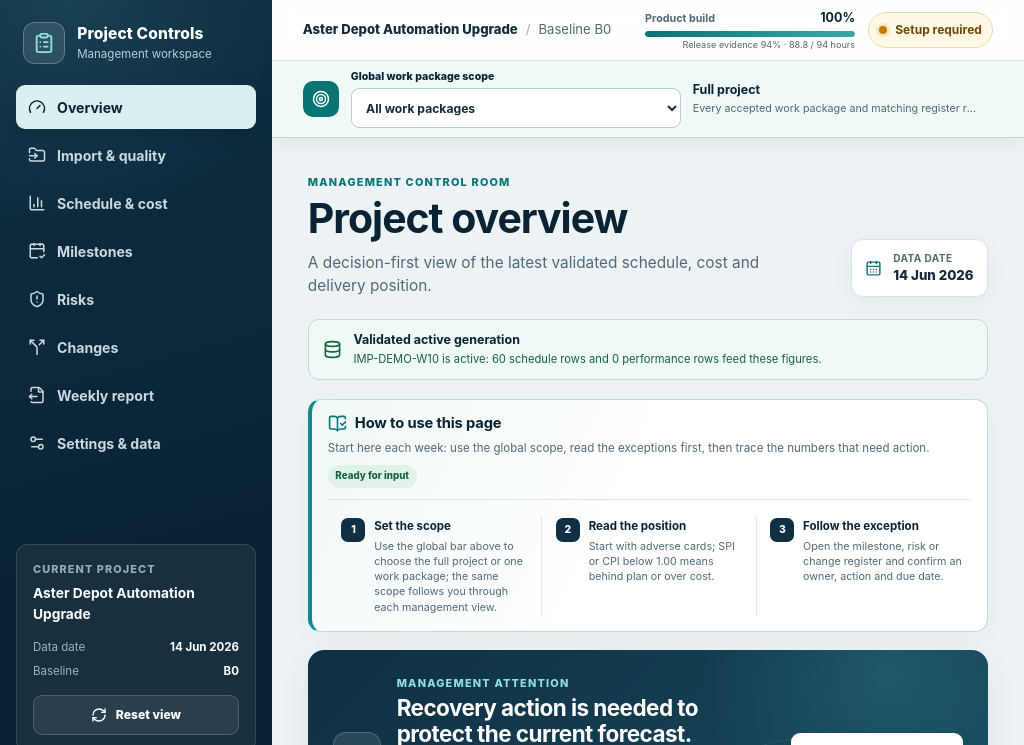
it: project controls application › carries one global work-package scope through performance and registers
The width and height of the screenshot is (1024, 745).
Expected: the heading "Project overview" is shown, [308,193,627,243]
Select "WP300 — Mechanical installation" in the dropdown labelled "Global work package scope" at (516, 108), box [351,88,681,128]
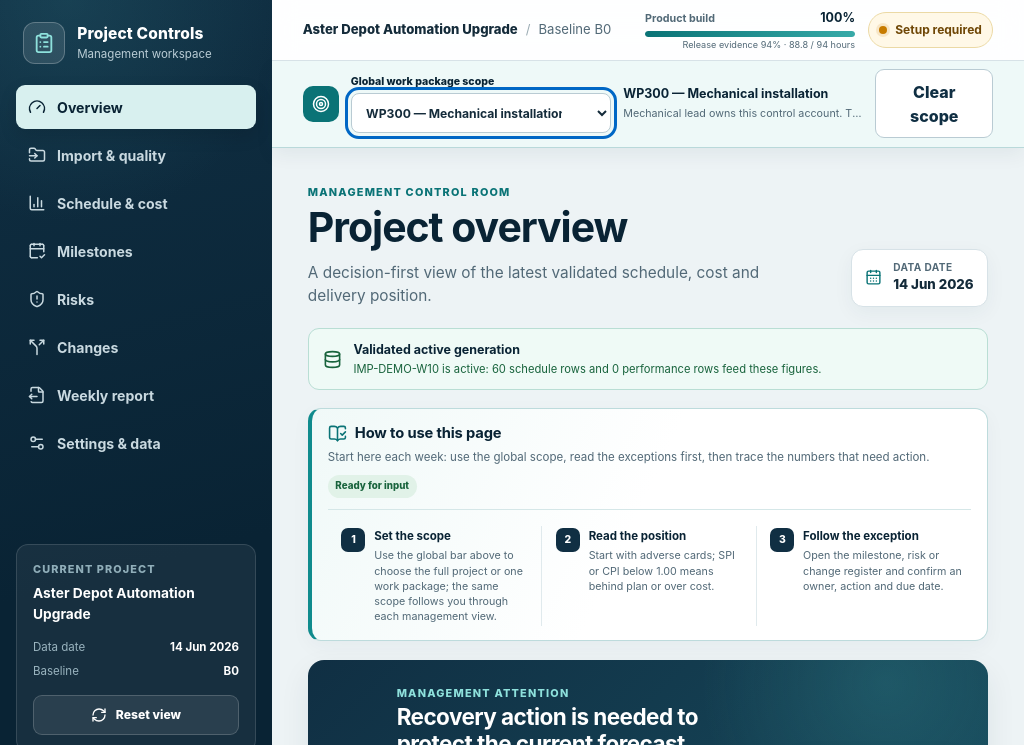
Click the link "Schedule & cost".
click(98, 203)  # box [28,194,168,212]
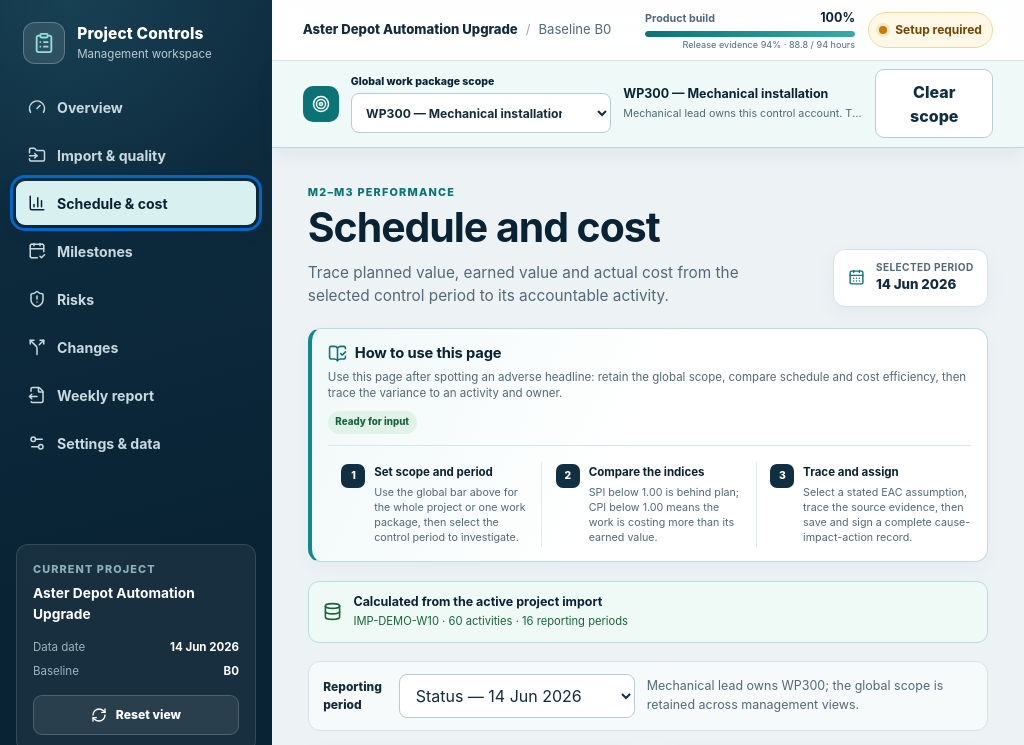
Expected: the heading "Schedule and cost" is shown, [308,202,660,252]
Click the link "Milestones".
click(80, 251)  # box [28,242,133,260]
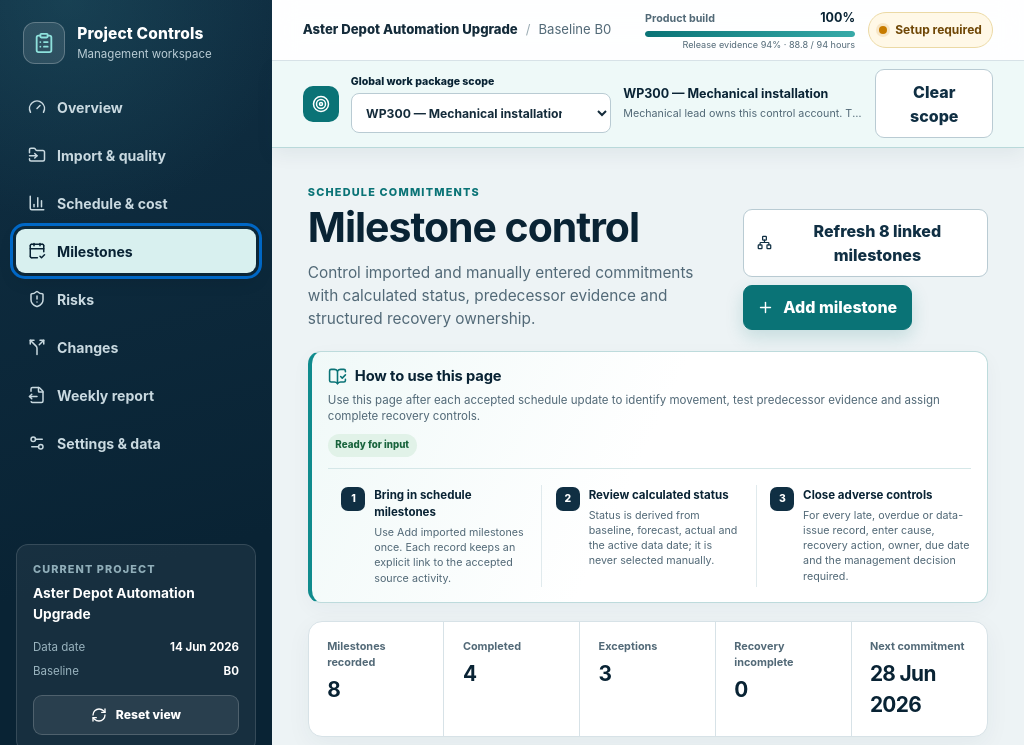
Expected: the heading "Milestone control" is shown, [308,202,639,252]
Click the link "Risks".
click(61, 299)  # box [28,290,94,308]
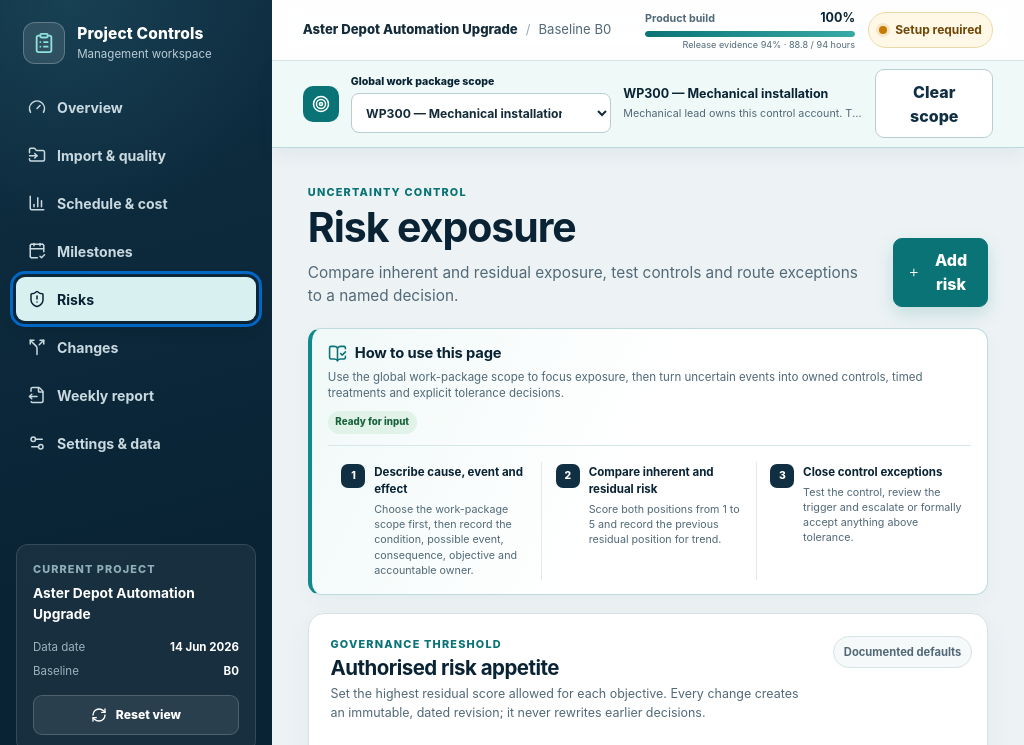
Expected: the heading "Risk exposure" is shown, [308,202,576,252]
Click the link "Changes".
click(73, 347)  # box [28,338,118,356]
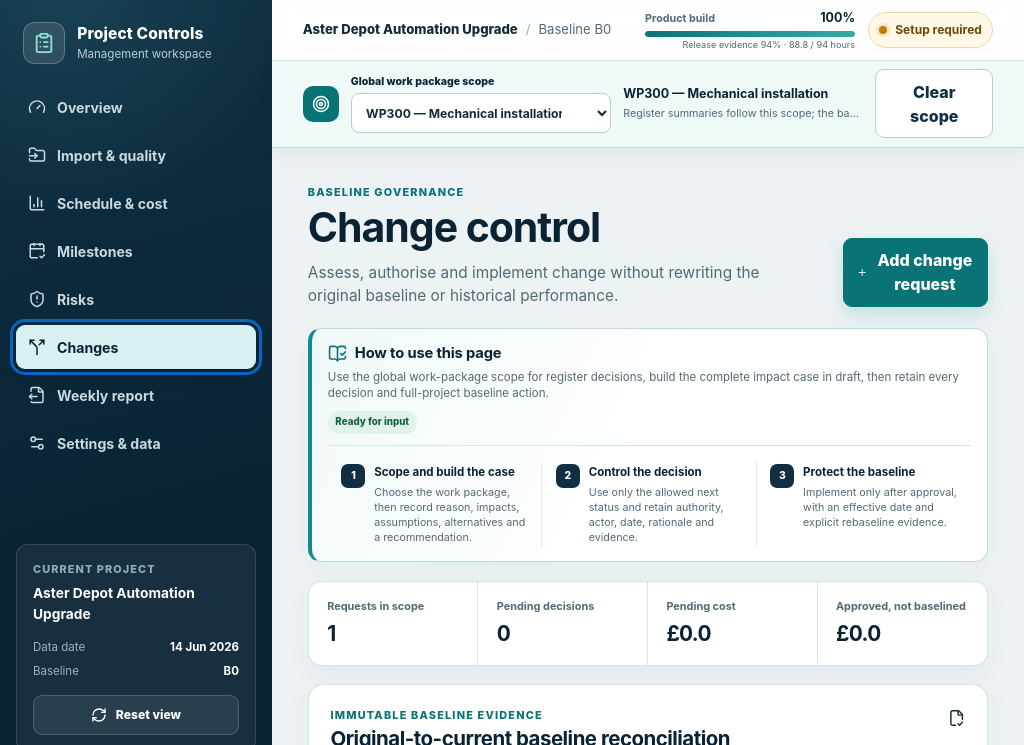
Expected: the heading "Change control" is shown, [308,202,600,252]
Click the link "Weekly report".
click(91, 395)  # box [28,386,154,404]
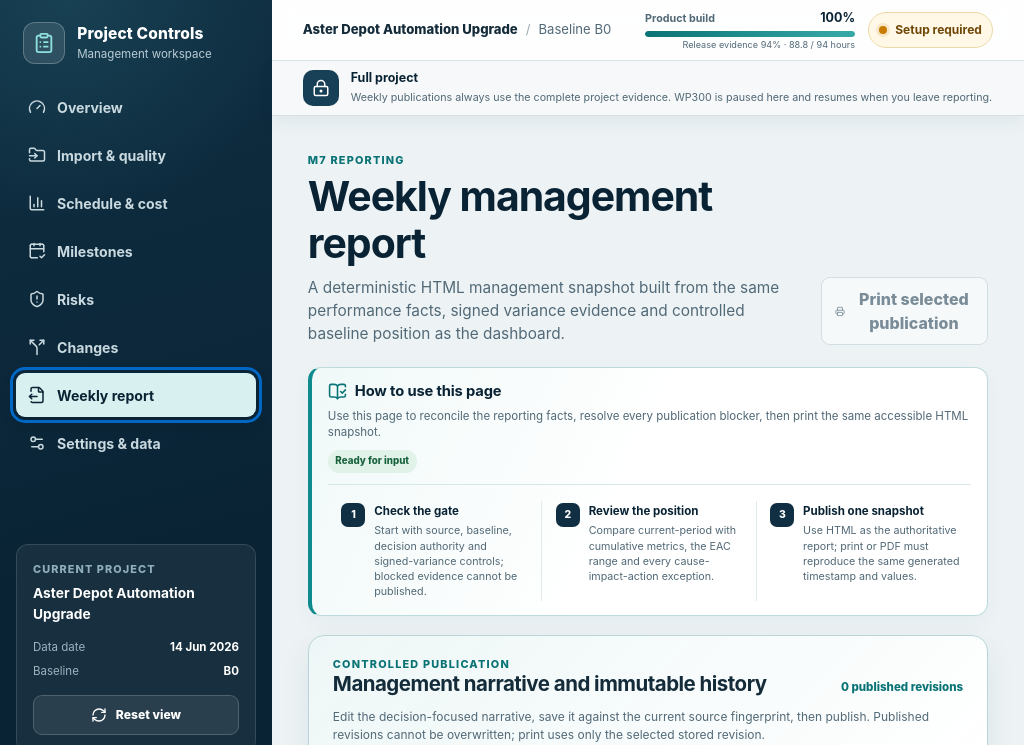
Expected: the heading "Weekly management report" is shown, [308,170,712,268]
Expected: the element named "Publication scope boundary" shows "Full project", [351,70,418,85]
Expected: the element named "Publication scope boundary" shows "WP300 is paused", [671,91,992,104]
